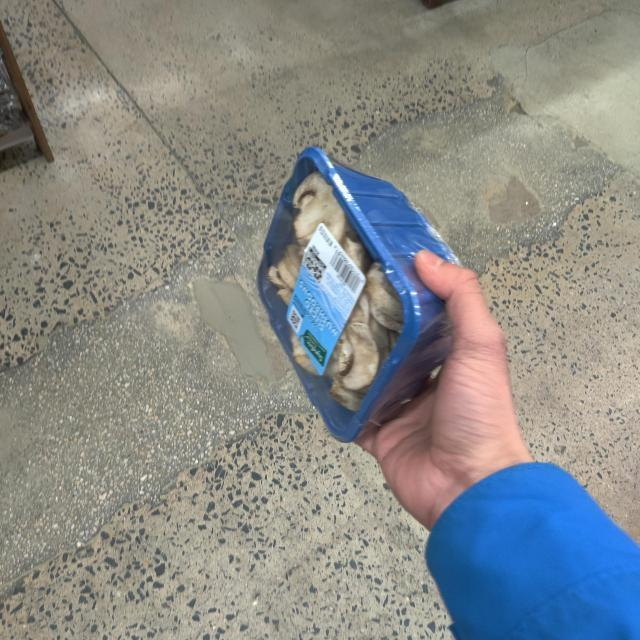Mushrooms: (261, 145, 459, 444)
